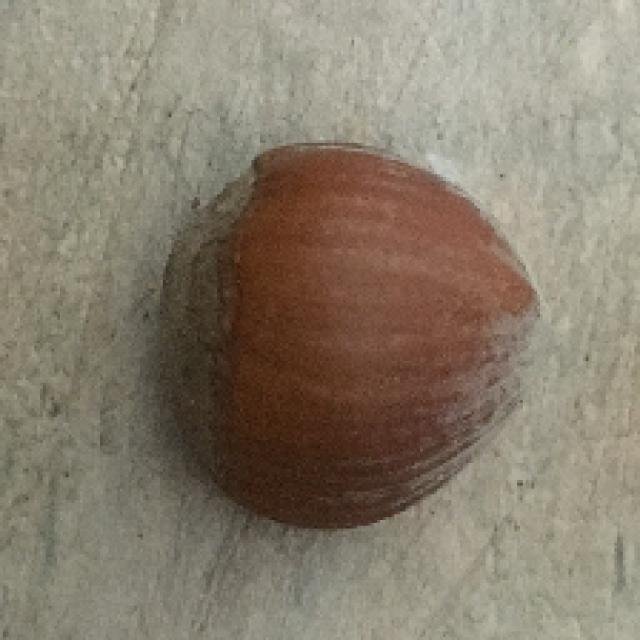qualityHazelnut: (160, 133, 546, 527)
